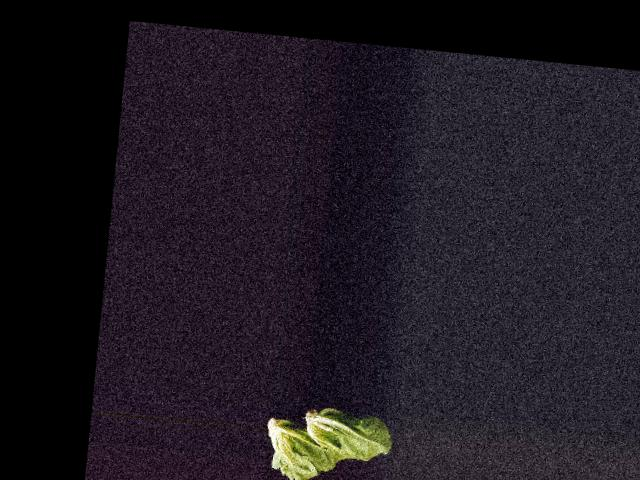lettuce: (261, 407, 356, 480)
